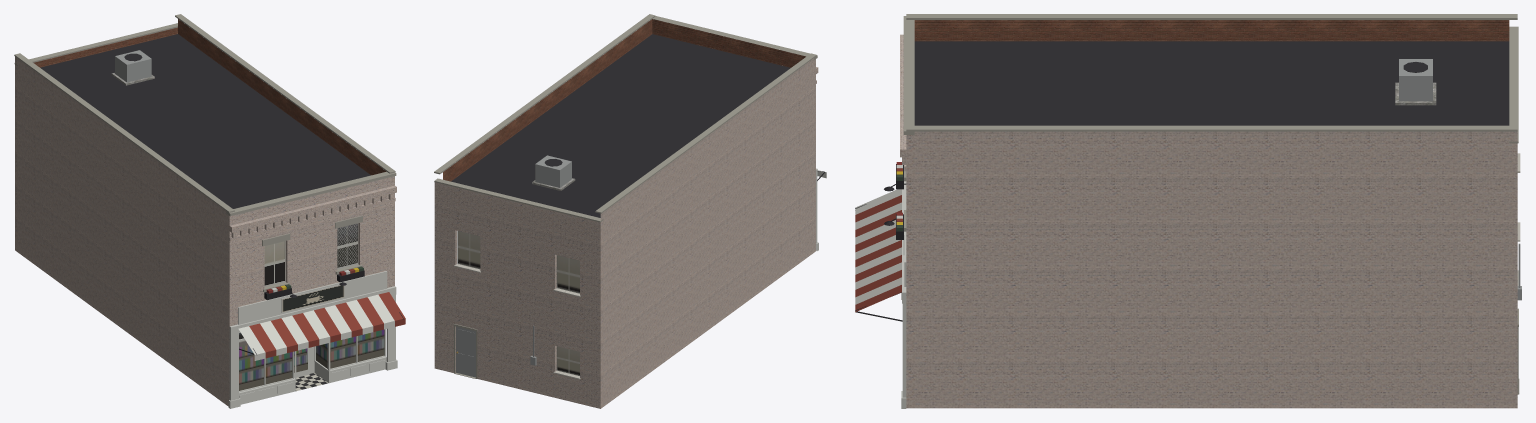
Rendered from town_shop_c 2.gltf.
3 renders of one model, left to right at view 1: azimuth 30°, elevation 25°; view 2: azimuth 150°, elevation 25°; view 3: azimuth 270°, elevation 25°, orthographic. The views are drawn at different scales.
Parts seen in each view (by area): view 1: TownShopC_Walls, TownShopC_RoofDeck, TownShopC_Awning, TownShopC_Window, TownShopC_Coping, TownShopC_ParapetIn, TownShopC_Cornice, TownShopC_Iron, TownShopC_SignBand, TownShopC_Bulkheads, TownShopC_HVAC, TownShopC_Sign (+4 smaller); view 2: TownShopC_Walls, TownShopC_RoofDeck, TownShopC_ParapetIn, TownShopC_Coping, TownShopC_Window, TownShopC_HVAC, TownShopC_ClosedDoor, TownShopC_Trim; view 3: TownShopC_Walls, TownShopC_RoofDeck, TownShopC_ParapetIn, TownShopC_Coping, TownShopC_Awning, TownShopC_HVAC, TownShopC_Iron, TownShopC_Cornice.
Part boxes in pixels (x1,y1,x2,y2): TownShopC_Walls: (15,56,394,406); TownShopC_RoofDeck: (40,34,370,208); TownShopC_Awning: (238,292,405,360); TownShopC_Window: (239,223,384,390); TownShopC_Coping: (14,14,396,216); TownShopC_ParapetIn: (33,19,386,175); TownShopC_Cornice: (229,185,396,241); TownShopC_Iron: (228,286,397,408); TownShopC_SignBand: (238,271,387,324); TownShopC_Bulkheads: (239,356,386,404); TownShopC_HVAC: (111,50,154,85); TownShopC_Sign: (282,285,344,312); TownShopC_Walls: (434,58,815,408); TownShopC_RoofDeck: (451,34,790,217); TownShopC_ParapetIn: (443,19,806,181); TownShopC_Coping: (434,14,817,222); TownShopC_Window: (457,231,579,375); TownShopC_HVAC: (532,155,575,190); TownShopC_ClosedDoor: (456,326,475,377); TownShopC_Trim: (454,264,580,379); TownShopC_Walls: (906,131,1517,408); TownShopC_RoofDeck: (914,41,1509,125); TownShopC_ParapetIn: (914,20,1509,41); TownShopC_Coping: (903,14,1518,143); TownShopC_Awning: (855,189,901,312); TownShopC_HVAC: (1395,59,1436,105); TownShopC_Iron: (901,181,906,408); TownShopC_Cornice: (900,34,906,171).
Size of what is drawn, in the model's own units: 8.1 by 9.21 by 19.62.
2 materials, 2 textured.
